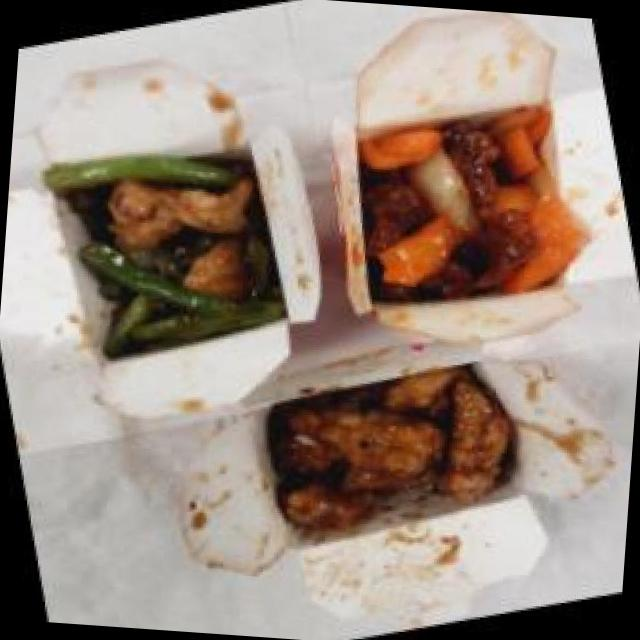Beijing Beef: (330, 82, 601, 338)
String Bean Chicken Breast: (31, 110, 310, 388)
The Original Orange Chicken: (247, 340, 533, 558)
